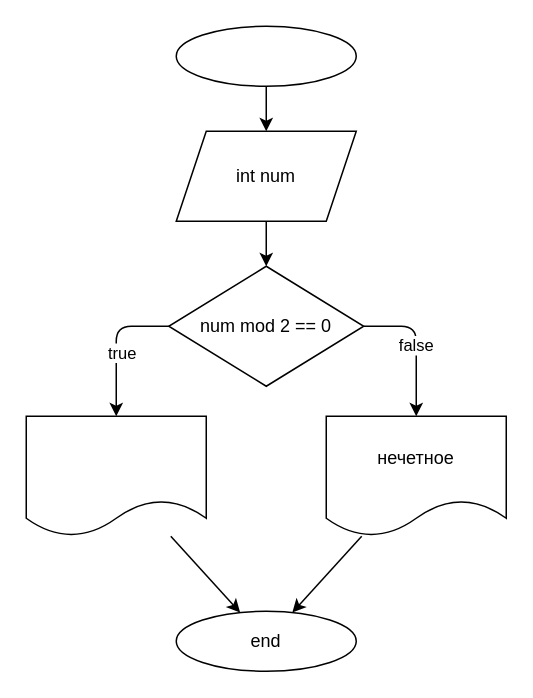
Image size: 533x698. Some labels were removed from this diagram. Here are the shapes that lost their labels. From the top down, the box of each, then its label:
(175, 25, 356, 86): start
(25, 415, 206, 536): четное
